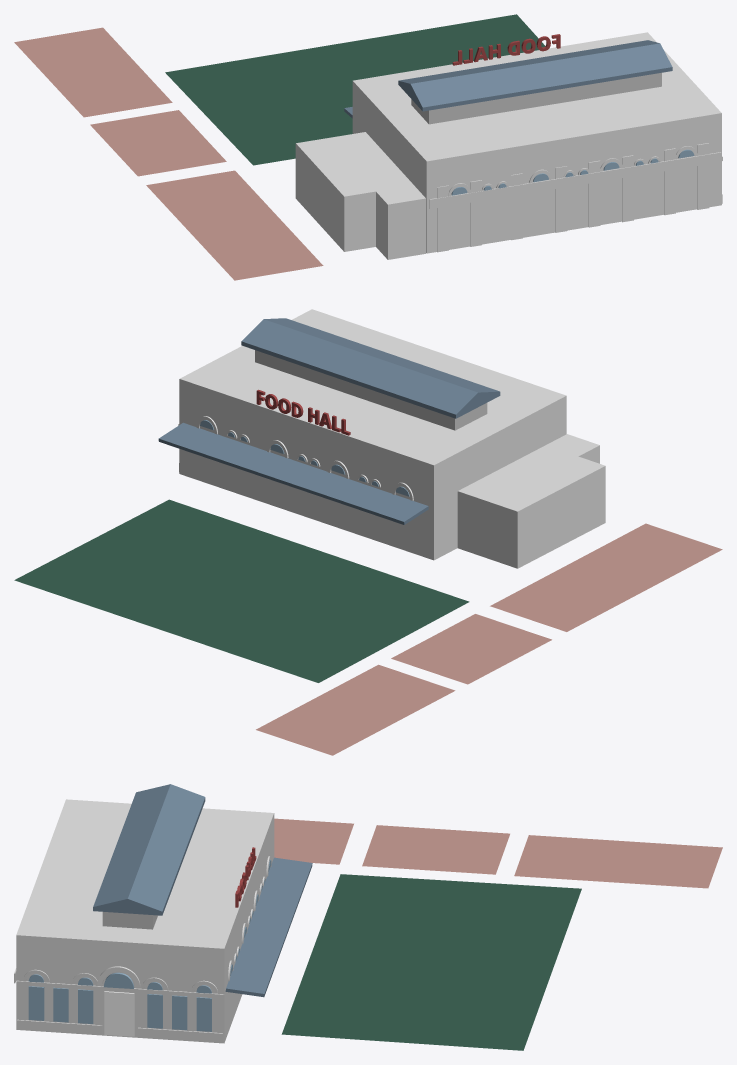
Rendered from bottling_dept.glb.
3 renders of one model, top to bottom at view 1: azimuth 30°, elevation 25°; view 2: azimuth 150°, elevation 25°; view 3: azimuth 270°, elevation 25°, orthographic. The views are drawn at different scales.
Parts seen in each view (by area): view 1: Building, Lawn, Rectangle 2 (×2), Rectangle, Roof, Rectangle 3, Column (×8), Roof building, H Column, Food Hall; view 2: Lawn, Building, Rectangle 2 (×2), Rectangle, Roof, Rectangle 3, Awning, Roof building, Food Hall; view 3: Lawn, Building, Rectangle 3 (×2), Roof, Rectangle 2 (×2), Awning, window (×6), Rectangle, Door, Rectangle 4, Roof building.
Boxes of the visible parts, x1,y1,x2,y2 form: Building: [352, 32, 721, 253]; Lawn: [165, 14, 545, 165]; Rectangle 2 (×2): [90, 110, 425, 259]; Rectangle: [146, 170, 323, 280]; Roof: [398, 40, 672, 111]; Rectangle 3: [14, 27, 172, 117]; Column (×8): [437, 143, 709, 252]; Roof building: [411, 72, 661, 124]; H Column: [429, 152, 721, 209]; Food Hall: [452, 34, 560, 65]; Lawn: [14, 499, 469, 682]; Building: [179, 309, 566, 560]; Rectangle 2 (×2): [391, 434, 605, 684]; Rectangle: [490, 523, 722, 631]; Roof: [241, 318, 500, 418]; Rectangle 3: [256, 664, 455, 755]; Awning: [158, 422, 428, 524]; Roof building: [255, 350, 487, 430]; Food Hall: [256, 389, 350, 435]; Lawn: [281, 874, 581, 1050]; Building: [16, 799, 274, 1043]; Rectangle 3 (×2): [17, 835, 722, 1034]; Roof: [93, 784, 205, 915]; Rectangle 2 (×2): [16, 825, 509, 998]; Awning: [225, 857, 312, 997]; window (×6): [28, 986, 211, 1031]; Rectangle: [274, 818, 353, 864]; Door: [104, 991, 134, 1036]; Rectangle 4: [138, 1027, 223, 1042]; Roof building: [102, 912, 157, 929].
Size of the model in its own units: 54.96 by 13.45 by 67.78.
